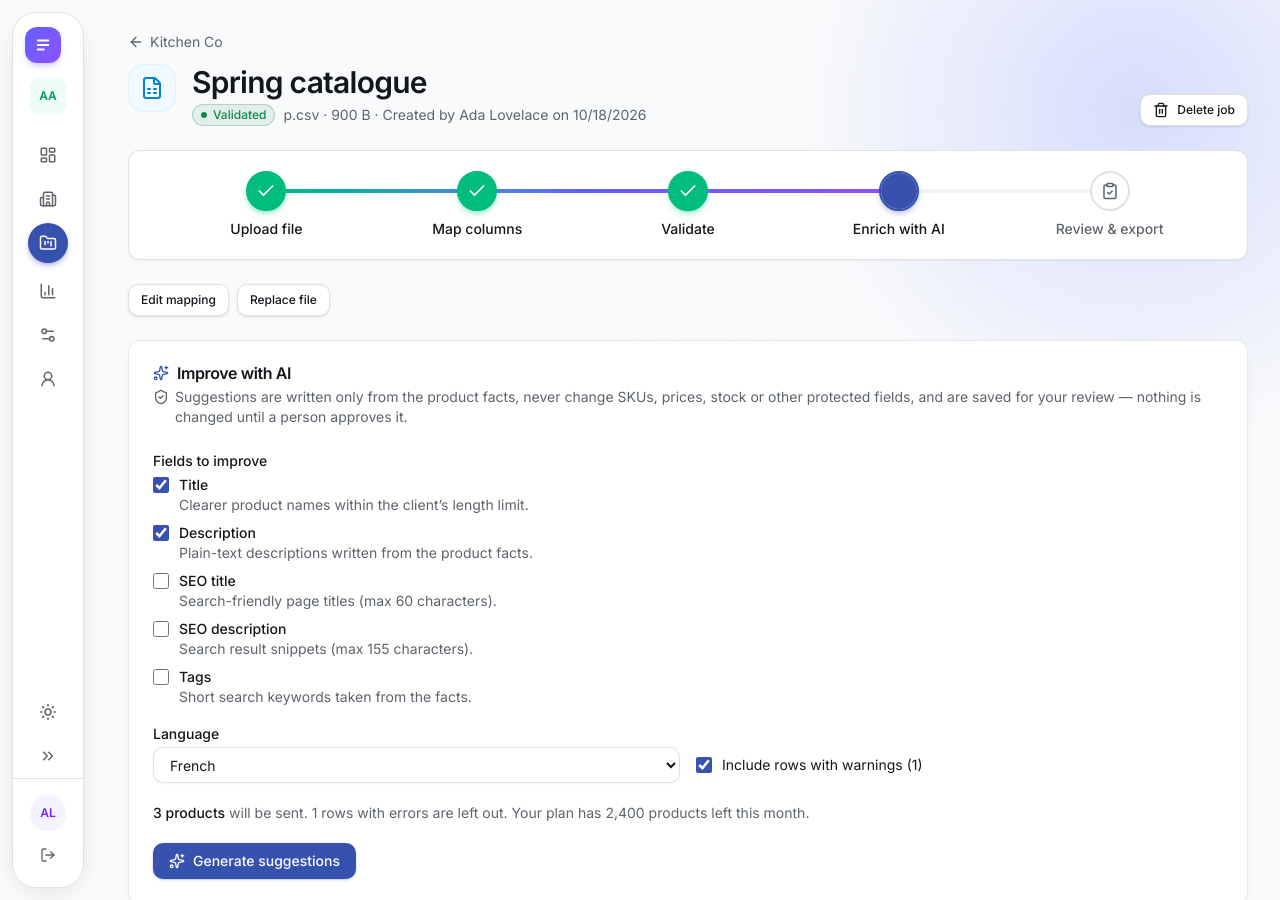
enrichment settings › starts enrichment with the chosen fields, client language and row scope
expect the heading "Improve with AI" is shown: met, box 153,363 -> 291,383
expect the dropdown labelled "Language" shows "French": met, box 153,747 -> 680,783
Click the checkbox labelled "Description" at (161, 533), box 153,525 -> 169,541
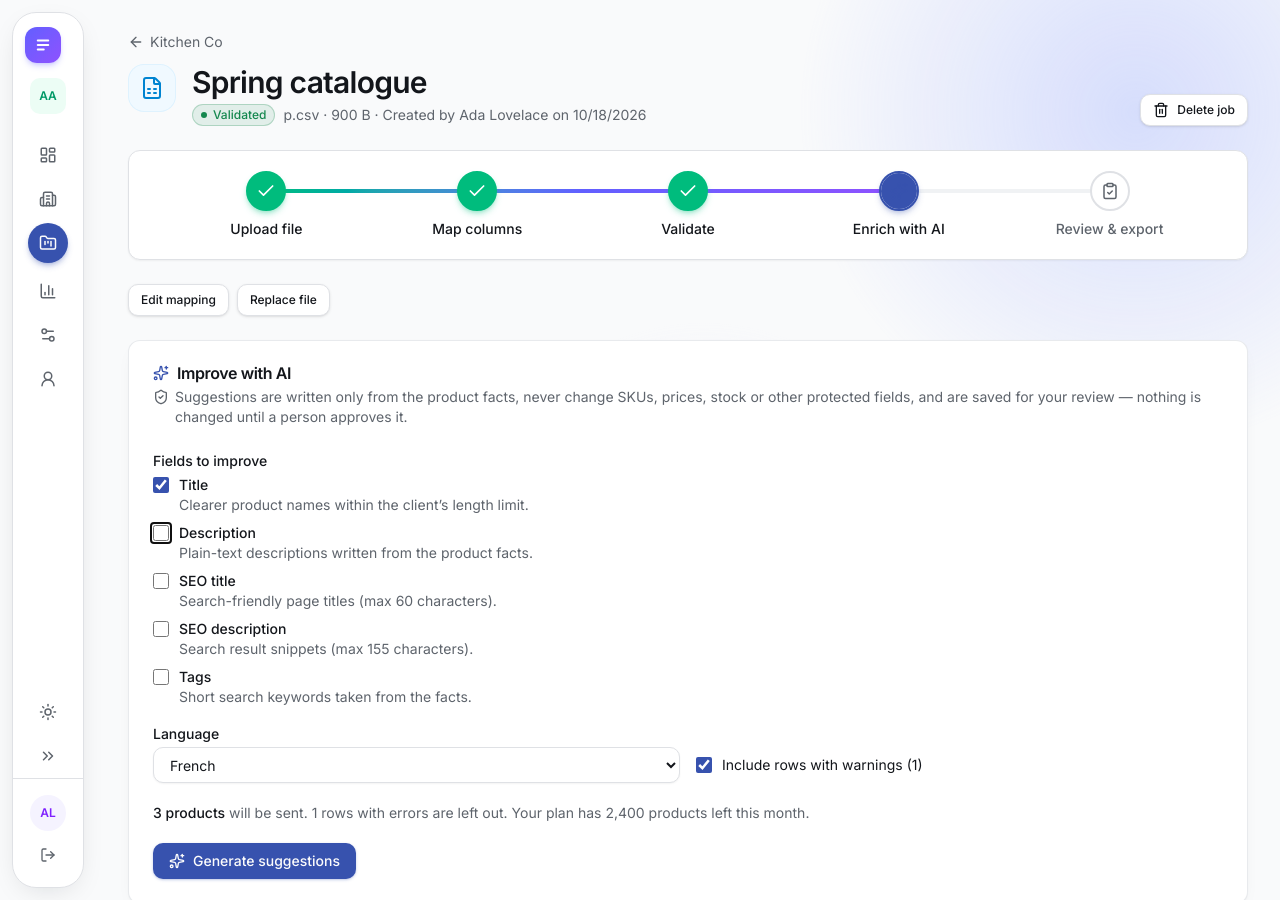
Click the checkbox labelled "Tags Short search keywords taken from the facts." at (161, 677), box 153,669 -> 169,685
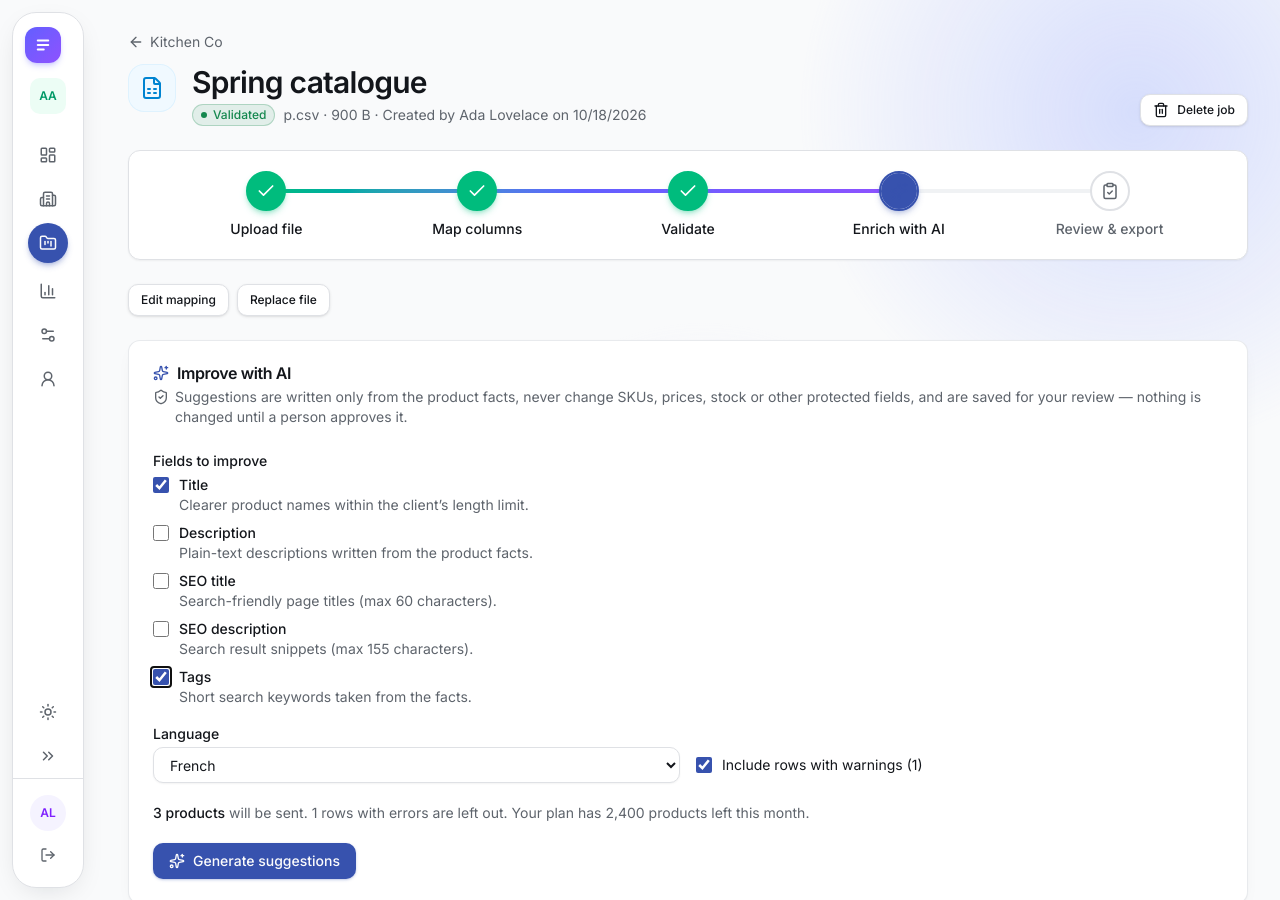
Click the checkbox labelled "Include rows with warnings (1)" at (704, 765), box 696,757 -> 712,773
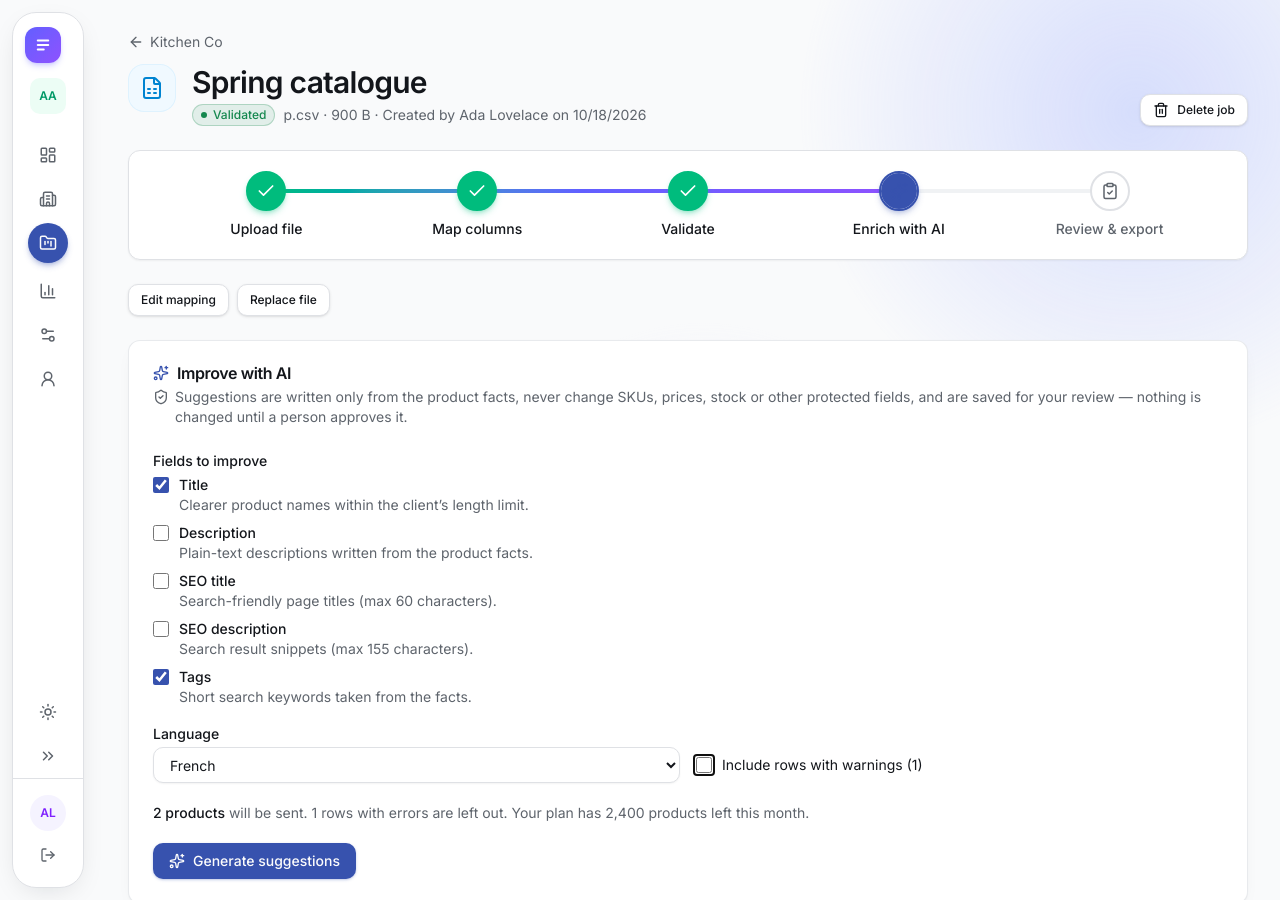
expect the text "2 products" is shown: met, box 153,804 -> 225,821
Click the button "Generate suggestions" at (254, 861), box 153,843 -> 356,879
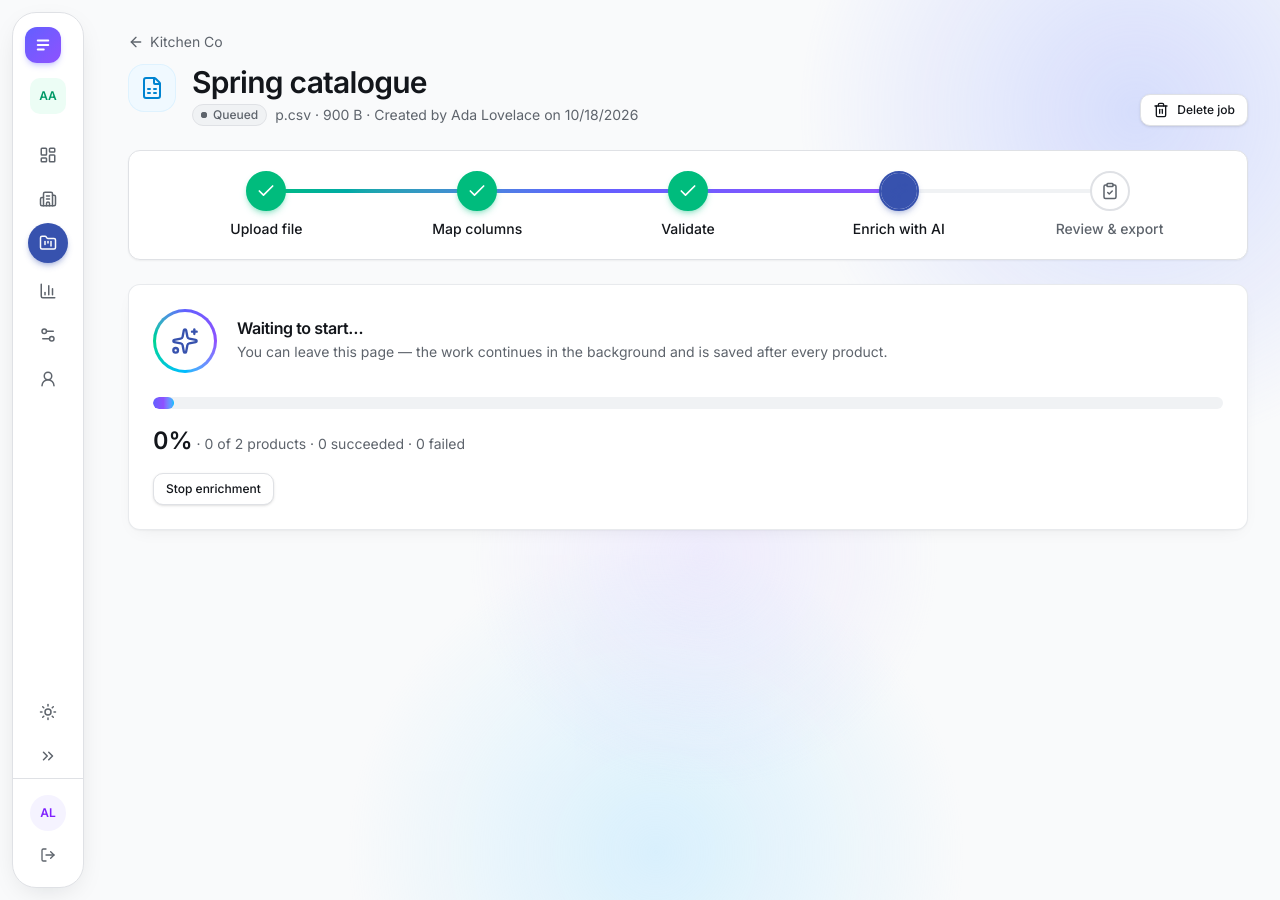
expect the heading "Waiting to start…" is shown: met, box 237,318 -> 363,338
